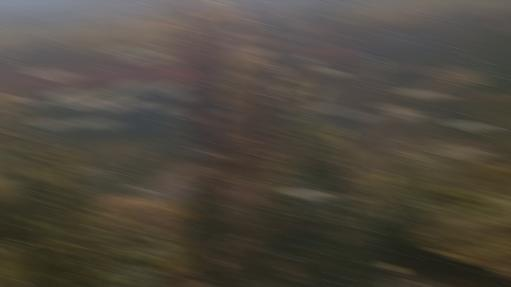Fish: (128, 167, 201, 210), (106, 83, 157, 98), (435, 147, 494, 158), (95, 99, 150, 110), (397, 89, 456, 99), (28, 70, 79, 81), (56, 97, 107, 108), (105, 45, 154, 56), (45, 90, 96, 100), (445, 121, 500, 130), (285, 190, 338, 199), (387, 109, 428, 120), (31, 119, 78, 128), (309, 82, 332, 99), (309, 66, 350, 75), (72, 119, 118, 127), (187, 148, 220, 159), (142, 51, 177, 61), (120, 56, 163, 64), (156, 81, 189, 91), (304, 105, 351, 112), (373, 104, 418, 111), (346, 114, 391, 121), (120, 80, 162, 87), (92, 119, 123, 128), (167, 89, 190, 100), (297, 24, 324, 33), (152, 103, 177, 112), (19, 99, 48, 106), (216, 110, 235, 119), (176, 111, 197, 118), (90, 92, 113, 98), (287, 116, 300, 123)
